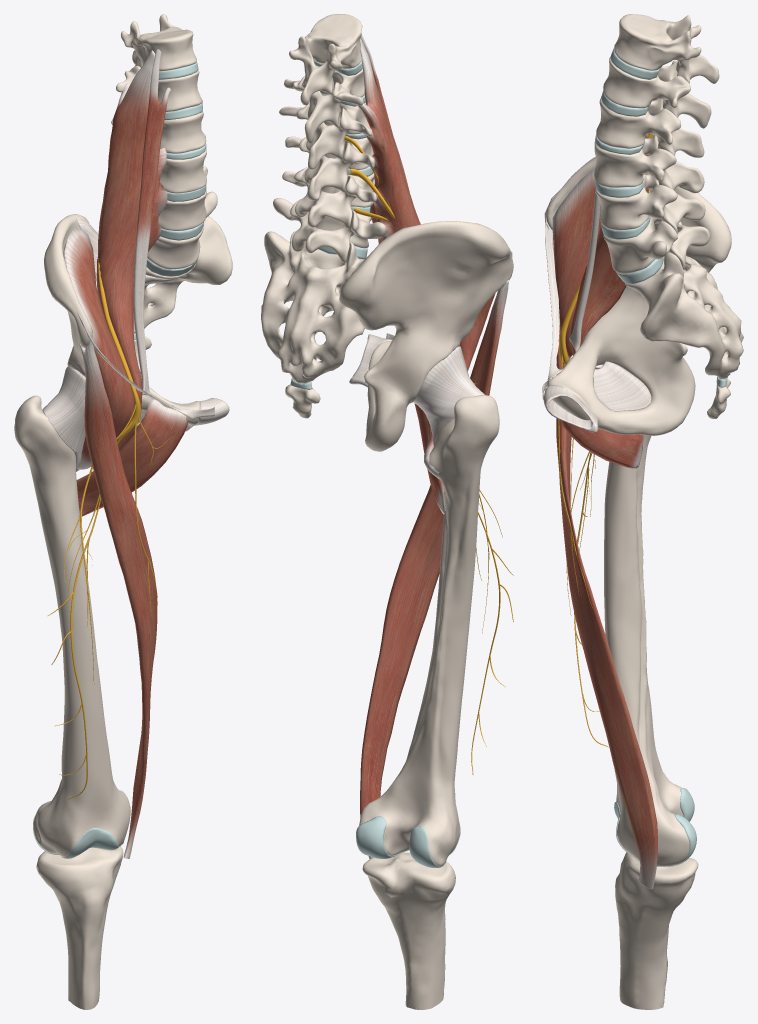
The model's file is ant-thigh-hip-flexors.glb.
3 renders of one model, left to right at view 1: azimuth 30°, elevation 25°; view 2: azimuth 150°, elevation 25°; view 3: azimuth 270°, elevation 25°, orthographic. The views are drawn at different scales.
Visible parts, largest first — view 1: Femur.r, Psoas major.r, Sartorius muscle.r, Tibia.r, Iliacus muscle.r, Psoas minor.r, Pectineus muscle.r, Hip bone.r, Sacrum, Muscular branches of the Femoral nerve.r, Thoracic vertebra (T12), Hip joint capsule.r (+10 smaller); view 2: Femur.r, Hip bone.r, Sartorius muscle.r, Sacrum, Tibia.r, Psoas major.r, Thoracic vertebra (T12), Lumbar vertebra (L5), Hip joint capsule.r, Lumbar vertebra (L4), Lumbar vertebra (L3), Lumbar vertebra (L1) (+8 smaller); view 3: Femur.r, Hip bone.r, Sartorius muscle.r, Tibia.r, Sacrum, Thoracic vertebra (T12), Iliacus muscle.r, Lumbar vertebra (L3), Lumbar vertebra (L2), Lumbar vertebra (L1), Lumbar vertebra (L4), Lumbar vertebra (L5) (+13 smaller).
Boxes of the visible parts, box(x1,y1,x2,y2) form: Femur.r: box(14, 395, 130, 857); Psoas major.r: box(76, 50, 167, 471); Sartorius muscle.r: box(79, 340, 157, 858); Tibia.r: box(36, 846, 123, 1009); Iliacus muscle.r: box(63, 228, 134, 469); Psoas minor.r: box(133, 49, 170, 395); Pectineus muscle.r: box(76, 399, 187, 516); Hip bone.r: box(44, 214, 199, 432); Sacrum: box(133, 216, 232, 333); Muscular branches of the Femoral nerve.r: box(47, 404, 172, 799); Thoracic vertebra (T12): box(121, 14, 196, 71); Hip joint capsule.r: box(42, 366, 85, 470); Femur.r: box(359, 395, 499, 866); Hip bone.r: box(339, 221, 513, 451); Sartorius muscle.r: box(360, 280, 508, 858); Sacrum: box(261, 230, 364, 383); Tibia.r: box(362, 852, 455, 1009); Psoas major.r: box(353, 38, 438, 478); Thoracic vertebra (T12): box(289, 14, 362, 105); Lumbar vertebra (L5): box(273, 198, 386, 262); Hip joint capsule.r: box(413, 346, 484, 445); Lumbar vertebra (L4): box(282, 167, 376, 228); Lumbar vertebra (L3): box(285, 136, 374, 200); Lumbar vertebra (L1): box(284, 69, 364, 143); Femur.r: box(604, 435, 689, 866); Hip bone.r: box(546, 156, 731, 435); Sartorius muscle.r: box(546, 222, 657, 889); Tibia.r: box(615, 852, 698, 1009); Sacrum: box(625, 221, 743, 378); Thoracic vertebra (T12): box(614, 14, 719, 83); Iliacus muscle.r: box(552, 168, 652, 369); Lumbar vertebra (L3): box(594, 134, 704, 193); Lumbar vertebra (L2): box(596, 98, 704, 157); Lumbar vertebra (L1): box(603, 57, 711, 128); Lumbar vertebra (L4): box(595, 174, 705, 233); Lumbar vertebra (L5): box(603, 217, 710, 274).
Size of the model in its own units: 0.21 by 0.8652 by 0.1541.
18 materials, 4 textured.
